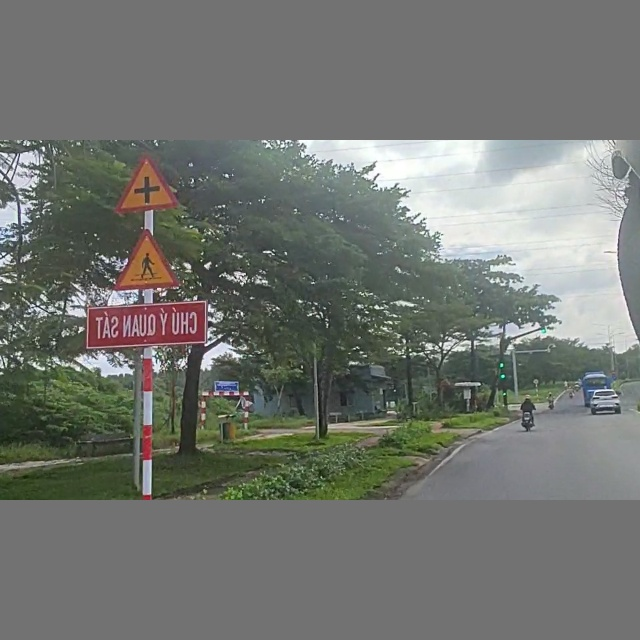W.205a: (107, 151, 181, 216)
W.224: (103, 228, 184, 295)
